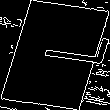L_W: (13, 35, 97, 75)
